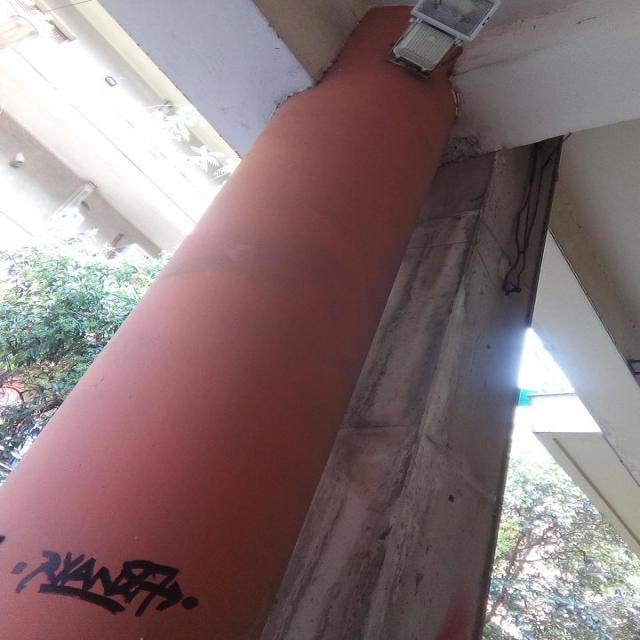nonspitting: (11, 553, 200, 621)
